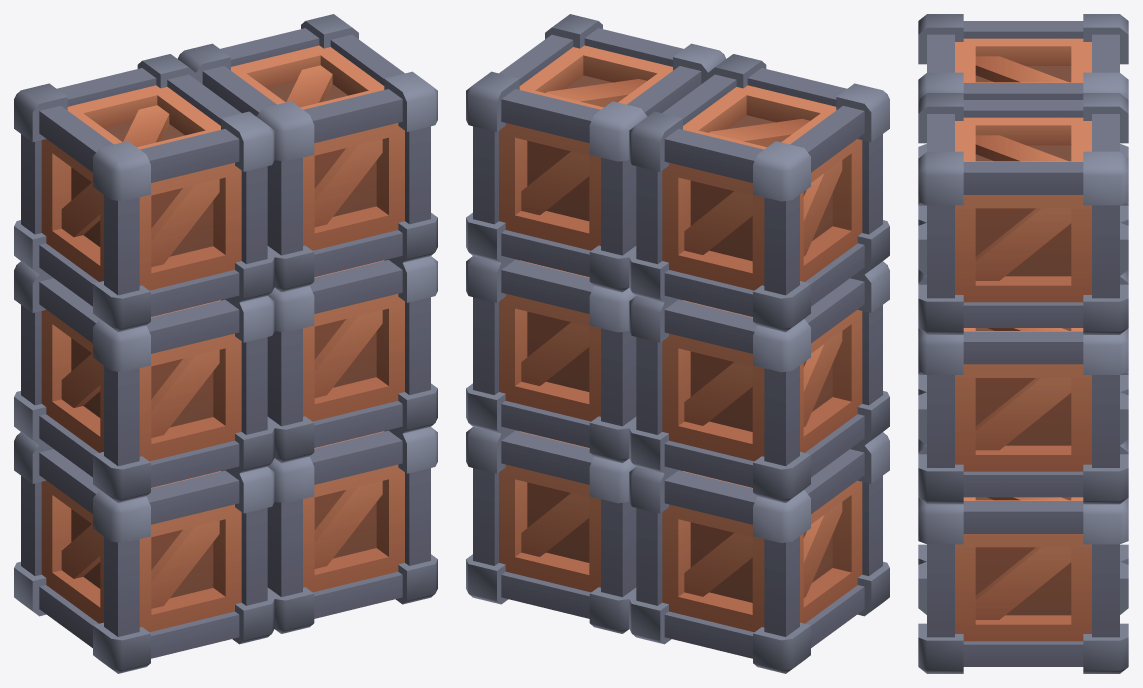
Rendered from obstacle_block.glb.
The picture shows the model from 3 angles, left to right: view 1: azimuth 30°, elevation 25°; view 2: azimuth 150°, elevation 25°; view 3: azimuth 270°, elevation 25°; orthographic projection.
Parts seen in each view (by area): view 1: crate-strong; view 2: crate-strong; view 3: crate-strong.
Part boxes in pixels (box(x1,y1,x2,y2)): crate-strong: box(14, 14, 437, 673); crate-strong: box(466, 14, 889, 673); crate-strong: box(918, 14, 1128, 673).
Bounding box in the file's own units: 1.6 × 2.4 × 0.9001.
1 material, 1 textured.
